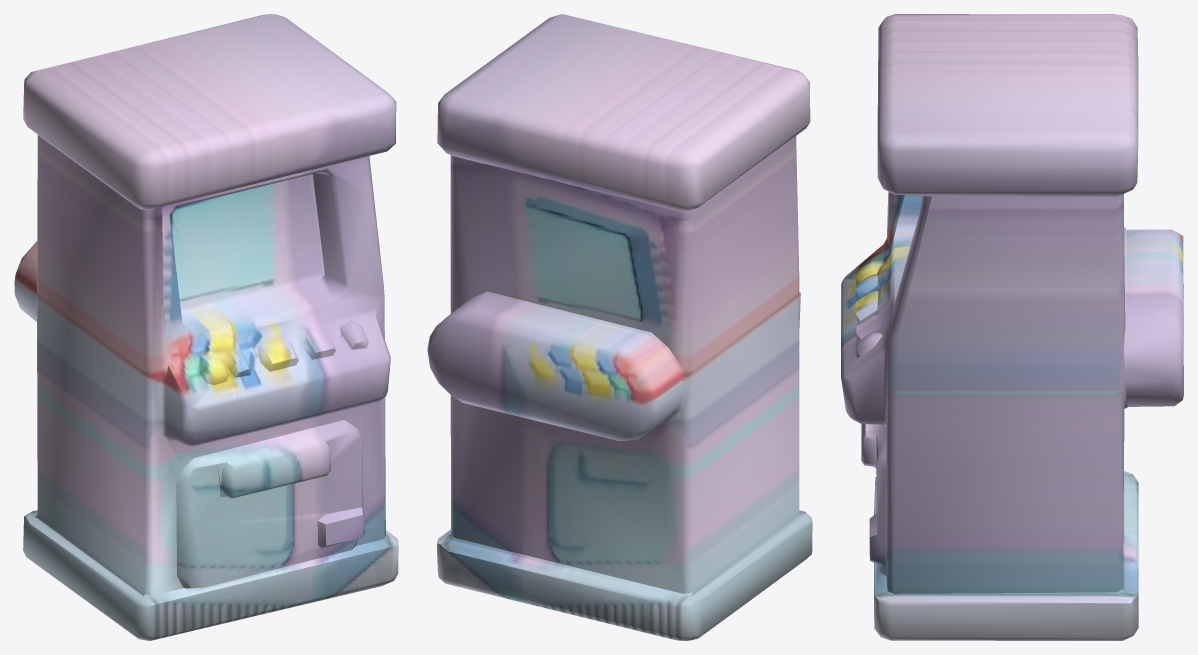
3 views of the same model, side by side, from view 1: azimuth 30°, elevation 25°; view 2: azimuth 150°, elevation 25°; view 3: azimuth 270°, elevation 25° (orthographic). The views are drawn at different scales.
Parts seen in each view (by area): view 1: Decor_atm; view 2: Decor_atm; view 3: Decor_atm.
Boxes of the visible parts, x1,y1,x2,y2 form: Decor_atm: (14,14,398,640); Decor_atm: (427,14,812,640); Decor_atm: (841,14,1183,640).
Size of the model in its own units: 1.07 by 1.9 by 1.17.
Materials: 1 (1 with a texture image).
